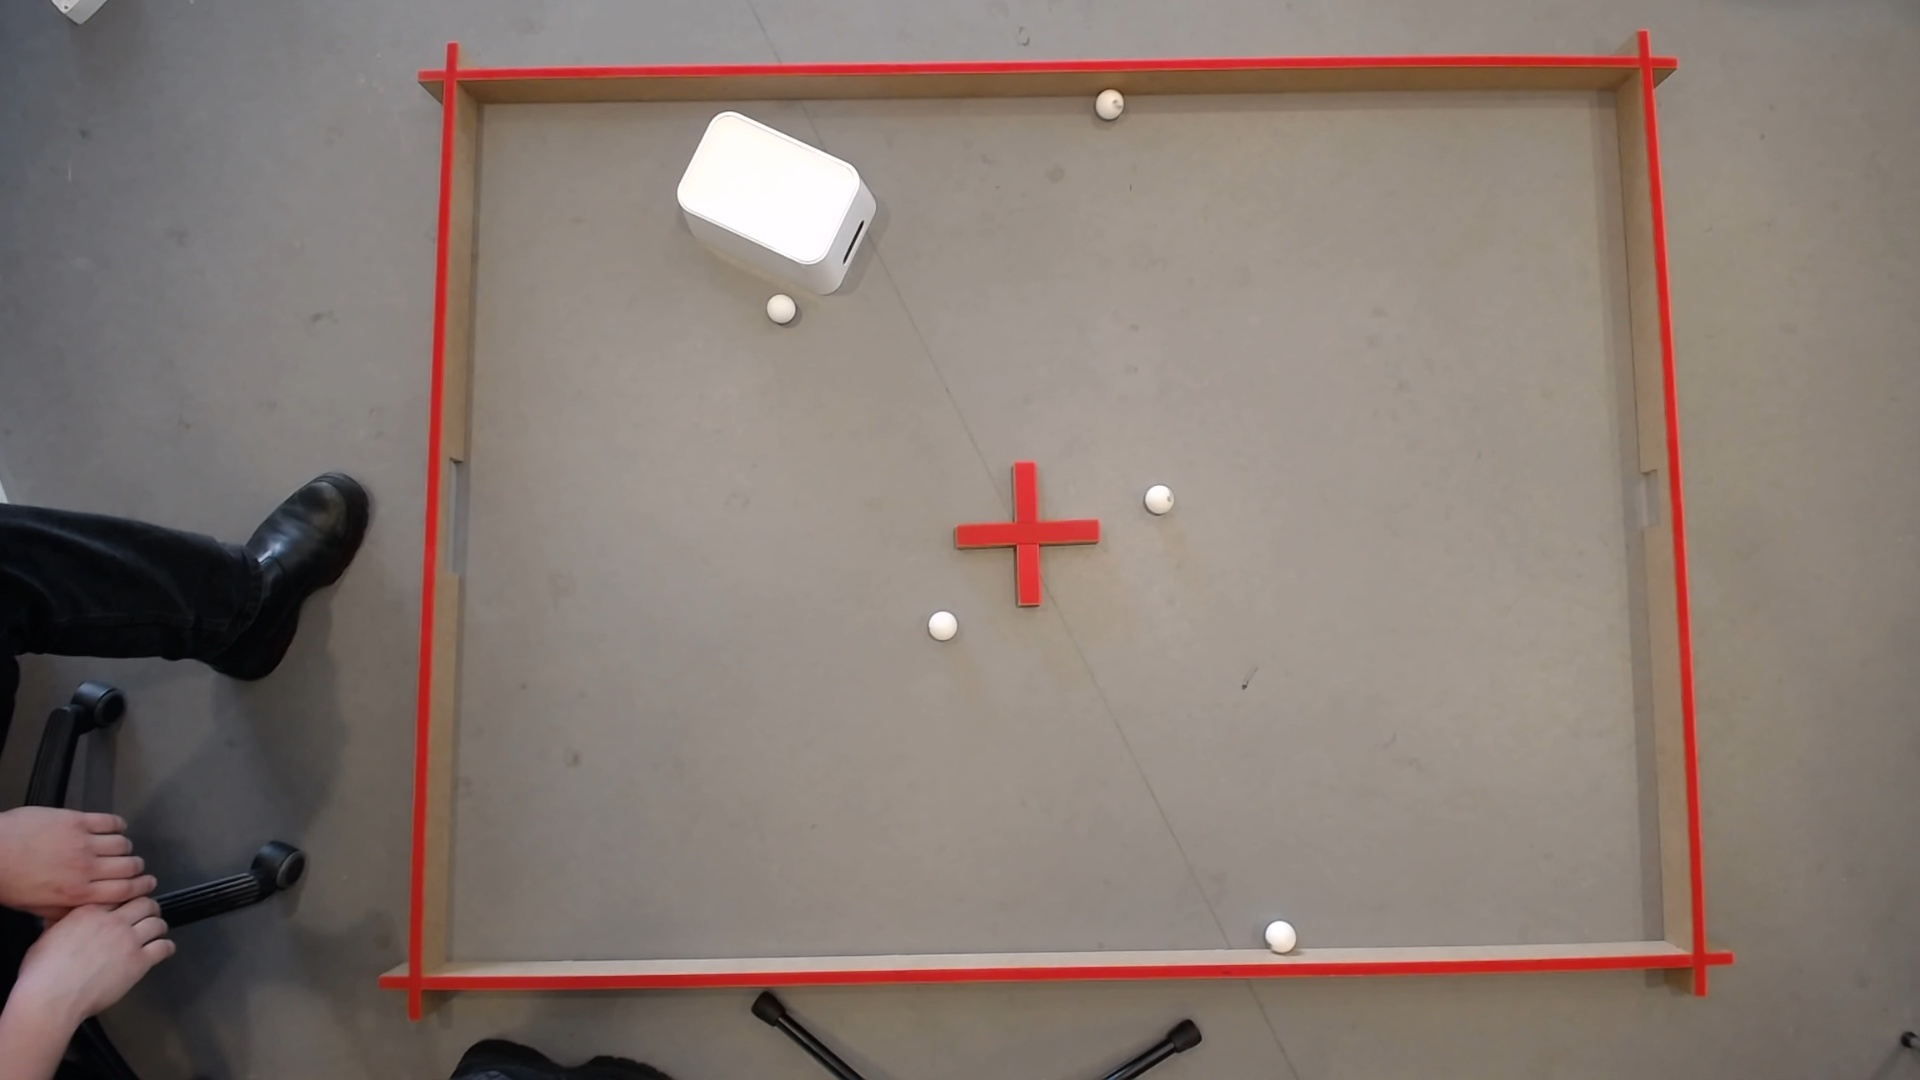balls: (669, 100, 866, 272), (1261, 915, 1300, 952), (924, 605, 960, 638), (765, 291, 796, 320), (1142, 480, 1172, 509)
car: (1096, 86, 1121, 111)
